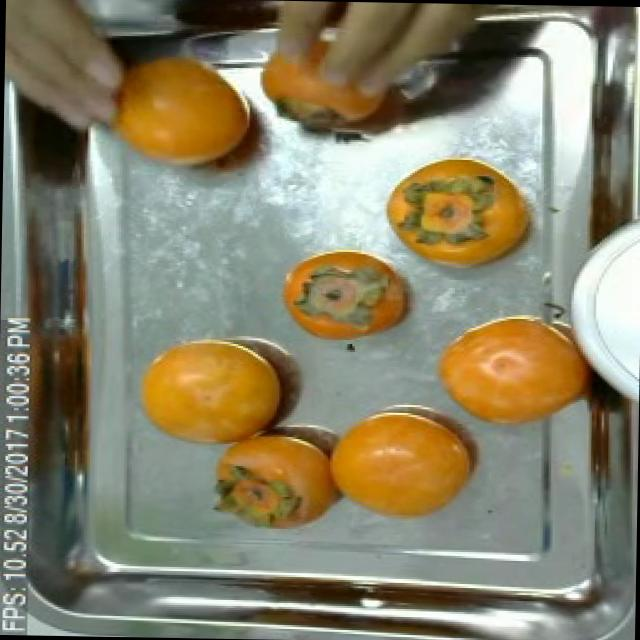Fruit: (241, 0, 450, 154), (370, 135, 556, 282), (417, 294, 603, 439), (87, 50, 280, 187), (322, 400, 489, 527), (129, 331, 295, 454), (3, 0, 146, 138), (272, 237, 430, 350), (202, 424, 353, 539), (158, 0, 305, 44)
